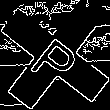P_NE: (25, 23, 85, 87)
